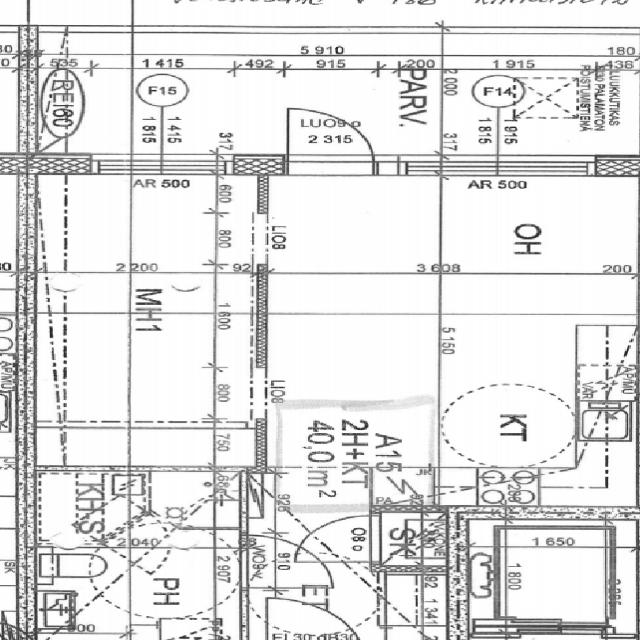door: (283, 94, 375, 174), (239, 534, 332, 587), (267, 595, 364, 640), (296, 514, 379, 560)
